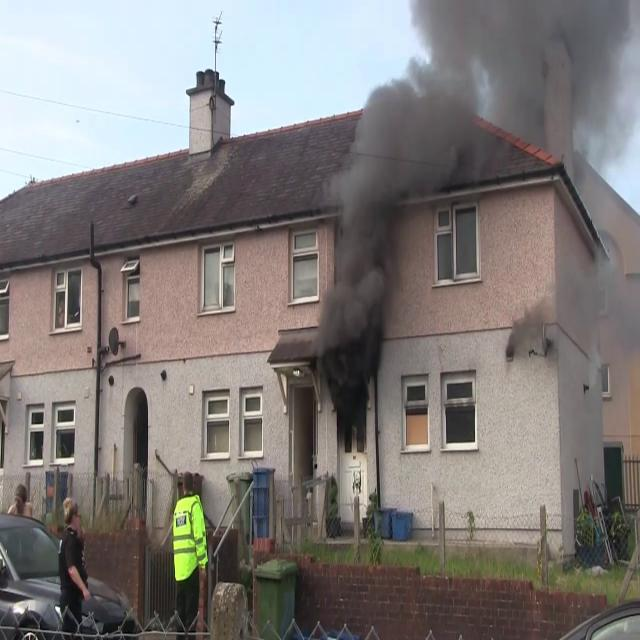Smoke: (392, 0, 634, 196), (316, 64, 439, 347), (506, 248, 627, 360)
